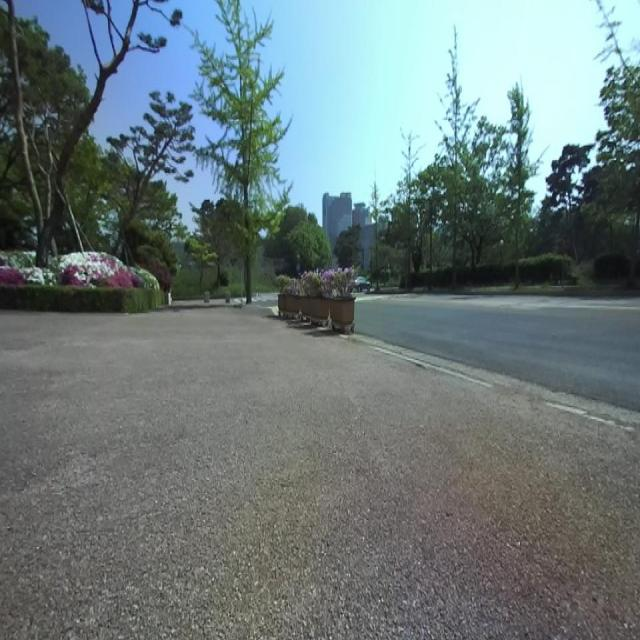sidewalk: (0, 305, 640, 638)
